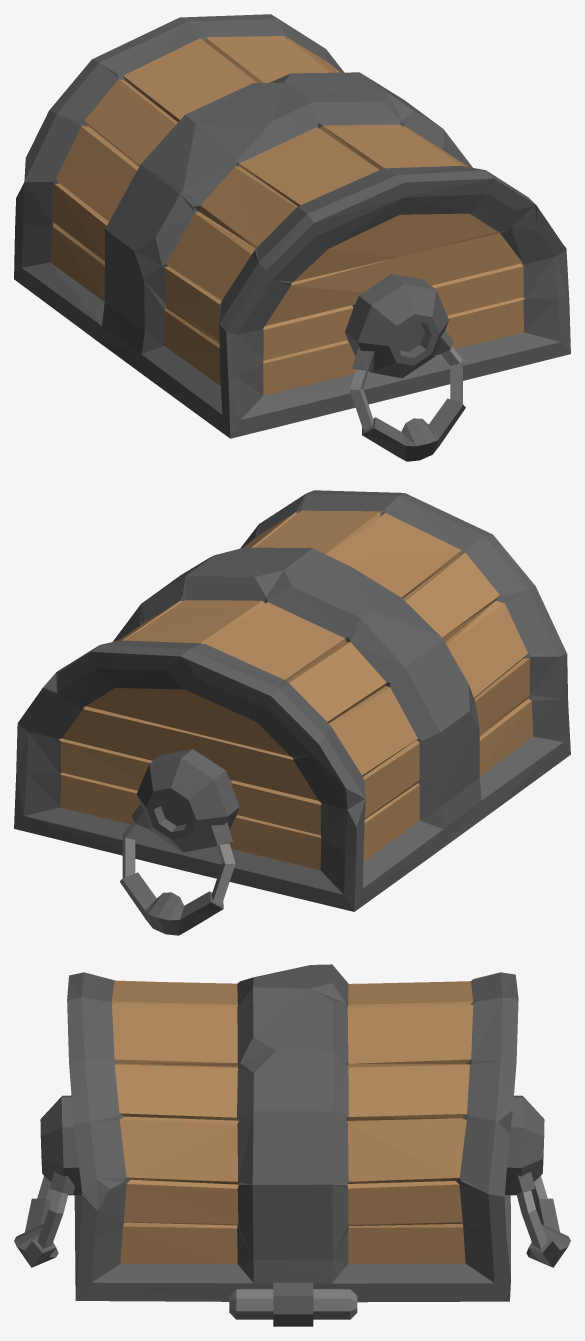
The model's file is SFFA_Chest_Lid.fbx.
The picture shows the model from 3 angles, top to bottom: view 1: azimuth 30°, elevation 25°; view 2: azimuth 150°, elevation 25°; view 3: azimuth 270°, elevation 25°; orthographic projection.
Visible parts, largest first — view 1: SFFA_Chest_Lid; view 2: SFFA_Chest_Lid; view 3: SFFA_Chest_Lid.
Part boxes in pixels (box(x1,y1,x2,y2)): SFFA_Chest_Lid: box(14, 14, 570, 461); SFFA_Chest_Lid: box(14, 490, 570, 935); SFFA_Chest_Lid: box(14, 964, 570, 1326).
Bounding box in the file's own units: 52.67 × 37.86 × 68.82.
